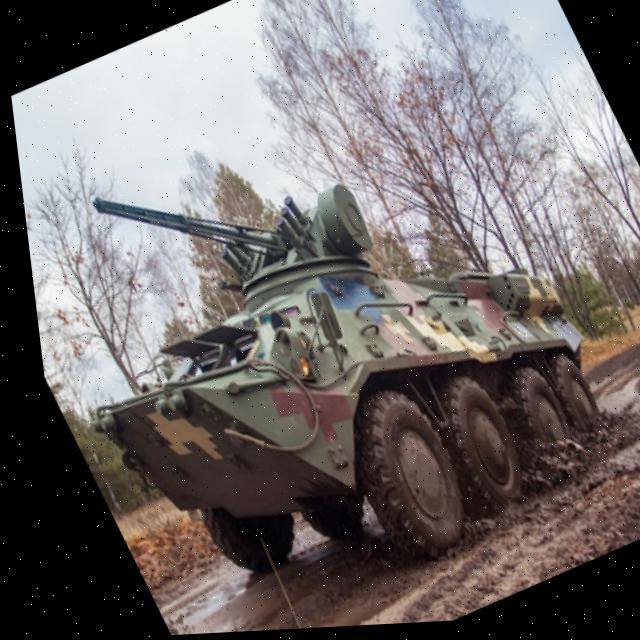MIL_APC: (41, 159, 640, 639)
